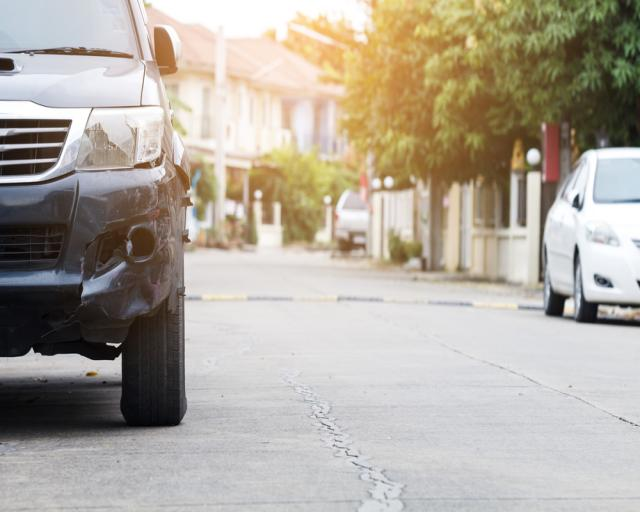crack: (41, 232, 104, 324)
dent: (117, 268, 155, 316)
lamp broken: (75, 104, 165, 171)
scratch: (129, 176, 176, 267)
